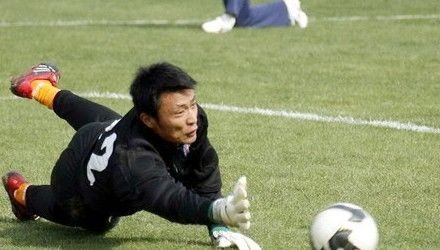falling: (183, 0, 315, 33)
